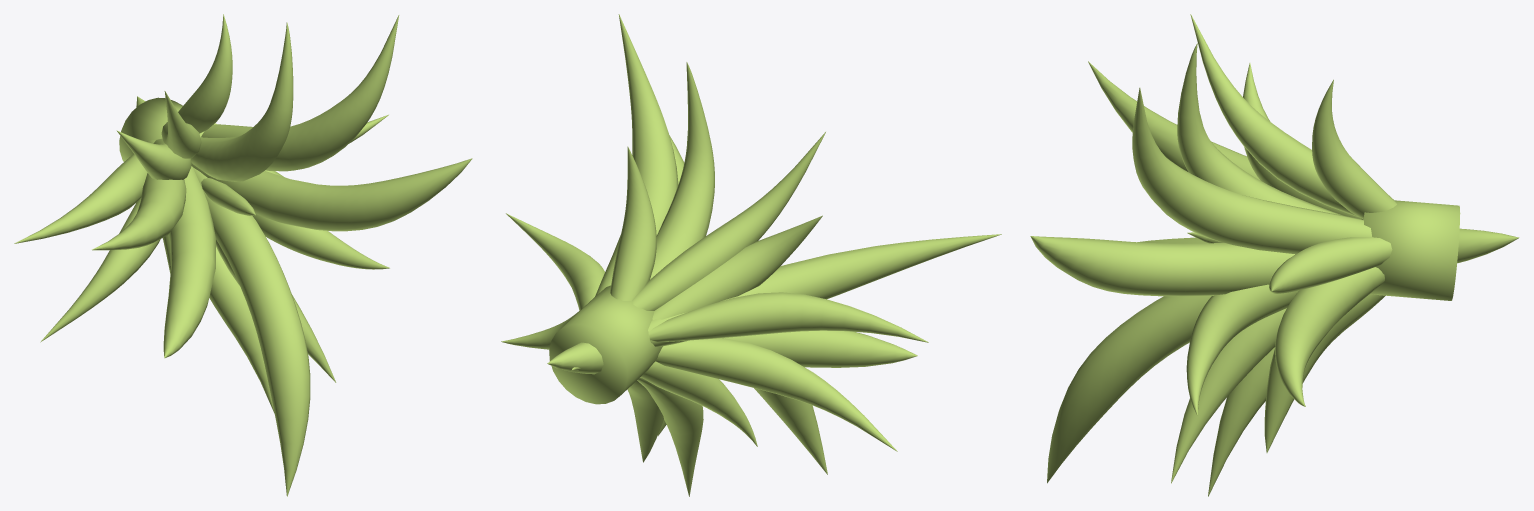
File: weirdPlant.fbx
3 views of the same model, side by side, from view 1: azimuth 30°, elevation 25°; view 2: azimuth 150°, elevation 25°; view 3: azimuth 270°, elevation 25° (orthographic). The views are drawn at different scales.
Visible parts, largest first — view 1: plant; view 2: plant; view 3: plant.
Boxes of the visible parts, box(x1,y1,x2,y2) form: plant: box(14, 14, 472, 496); plant: box(501, 14, 1001, 496); plant: box(1030, 14, 1519, 496).
Size of the model in its own units: 4783 by 4976 by 4577.
